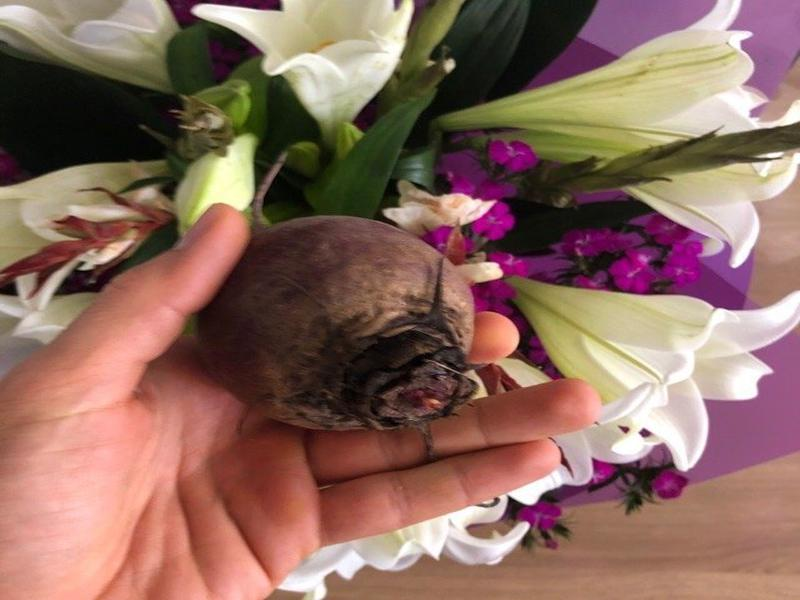Beet: (196, 148, 475, 431)
